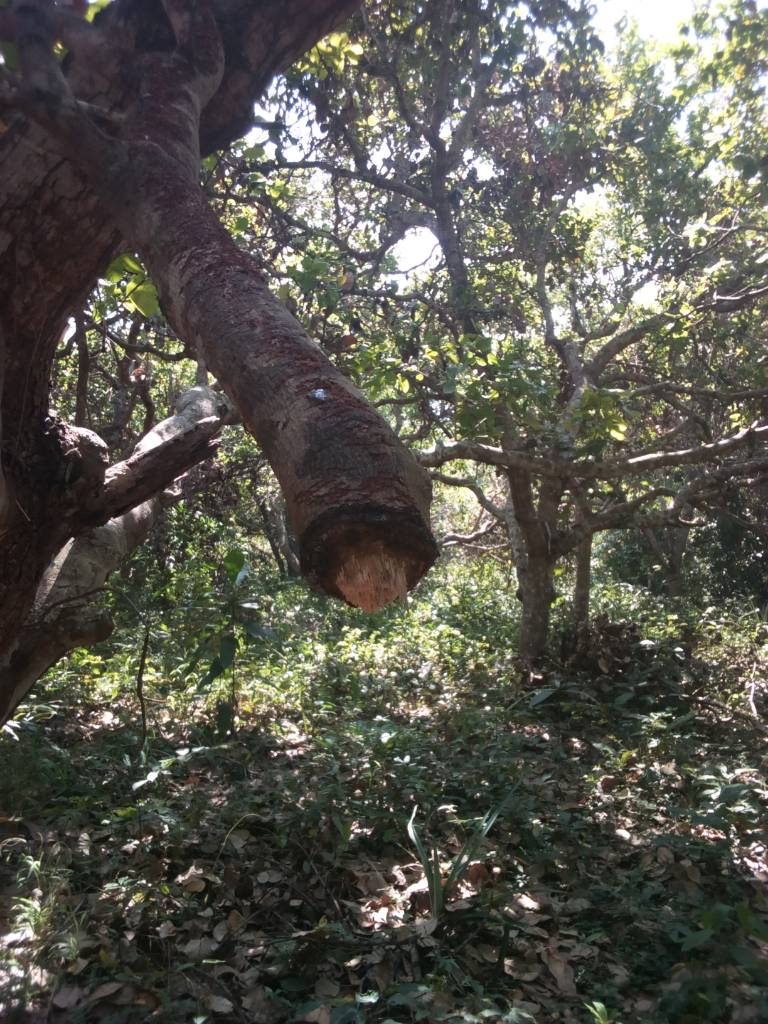Analepse trifasciata: (275, 494, 469, 630)
